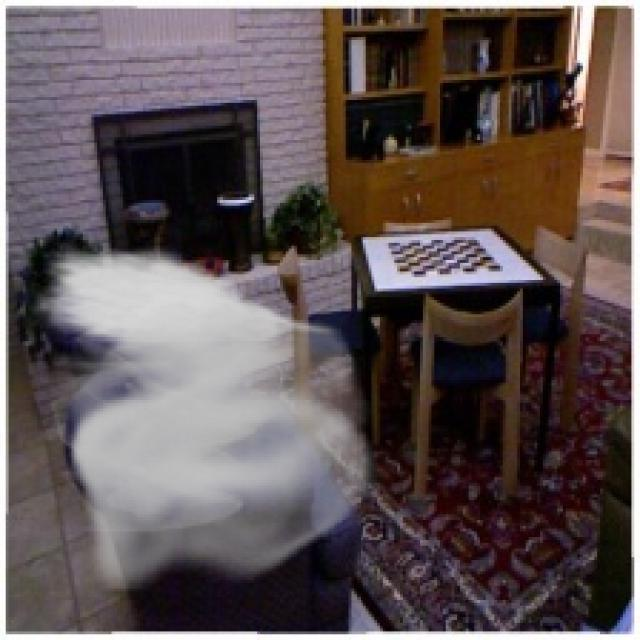Smoke: (28, 243, 386, 592)
